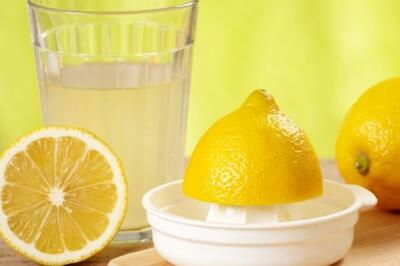Lemon: (1, 124, 129, 264)
